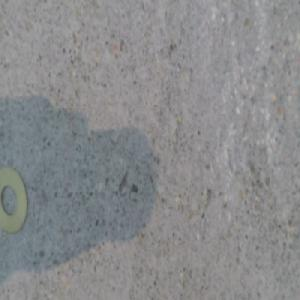Washer: (1, 165, 27, 230)
